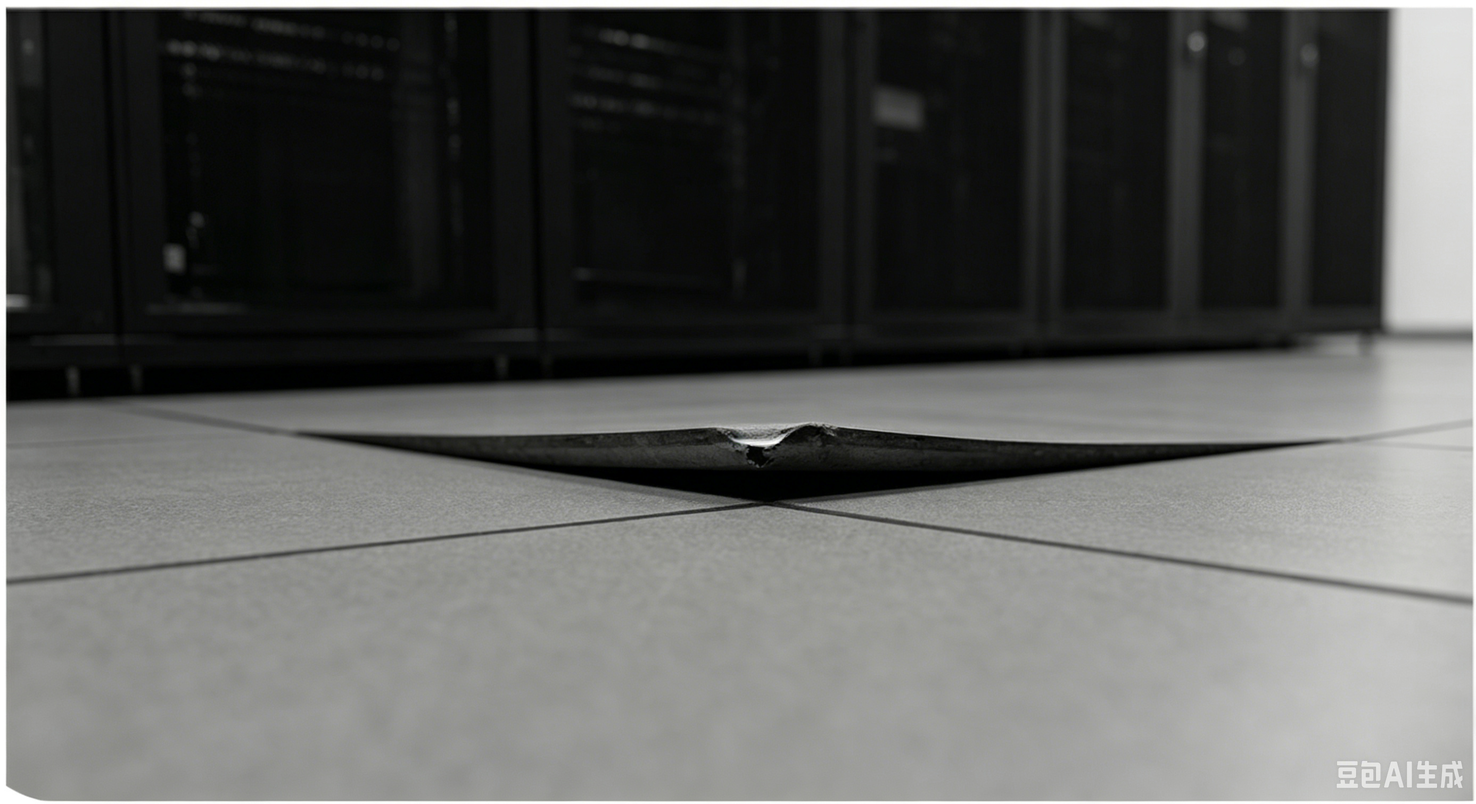floor_defect: (313, 409, 1336, 521)
